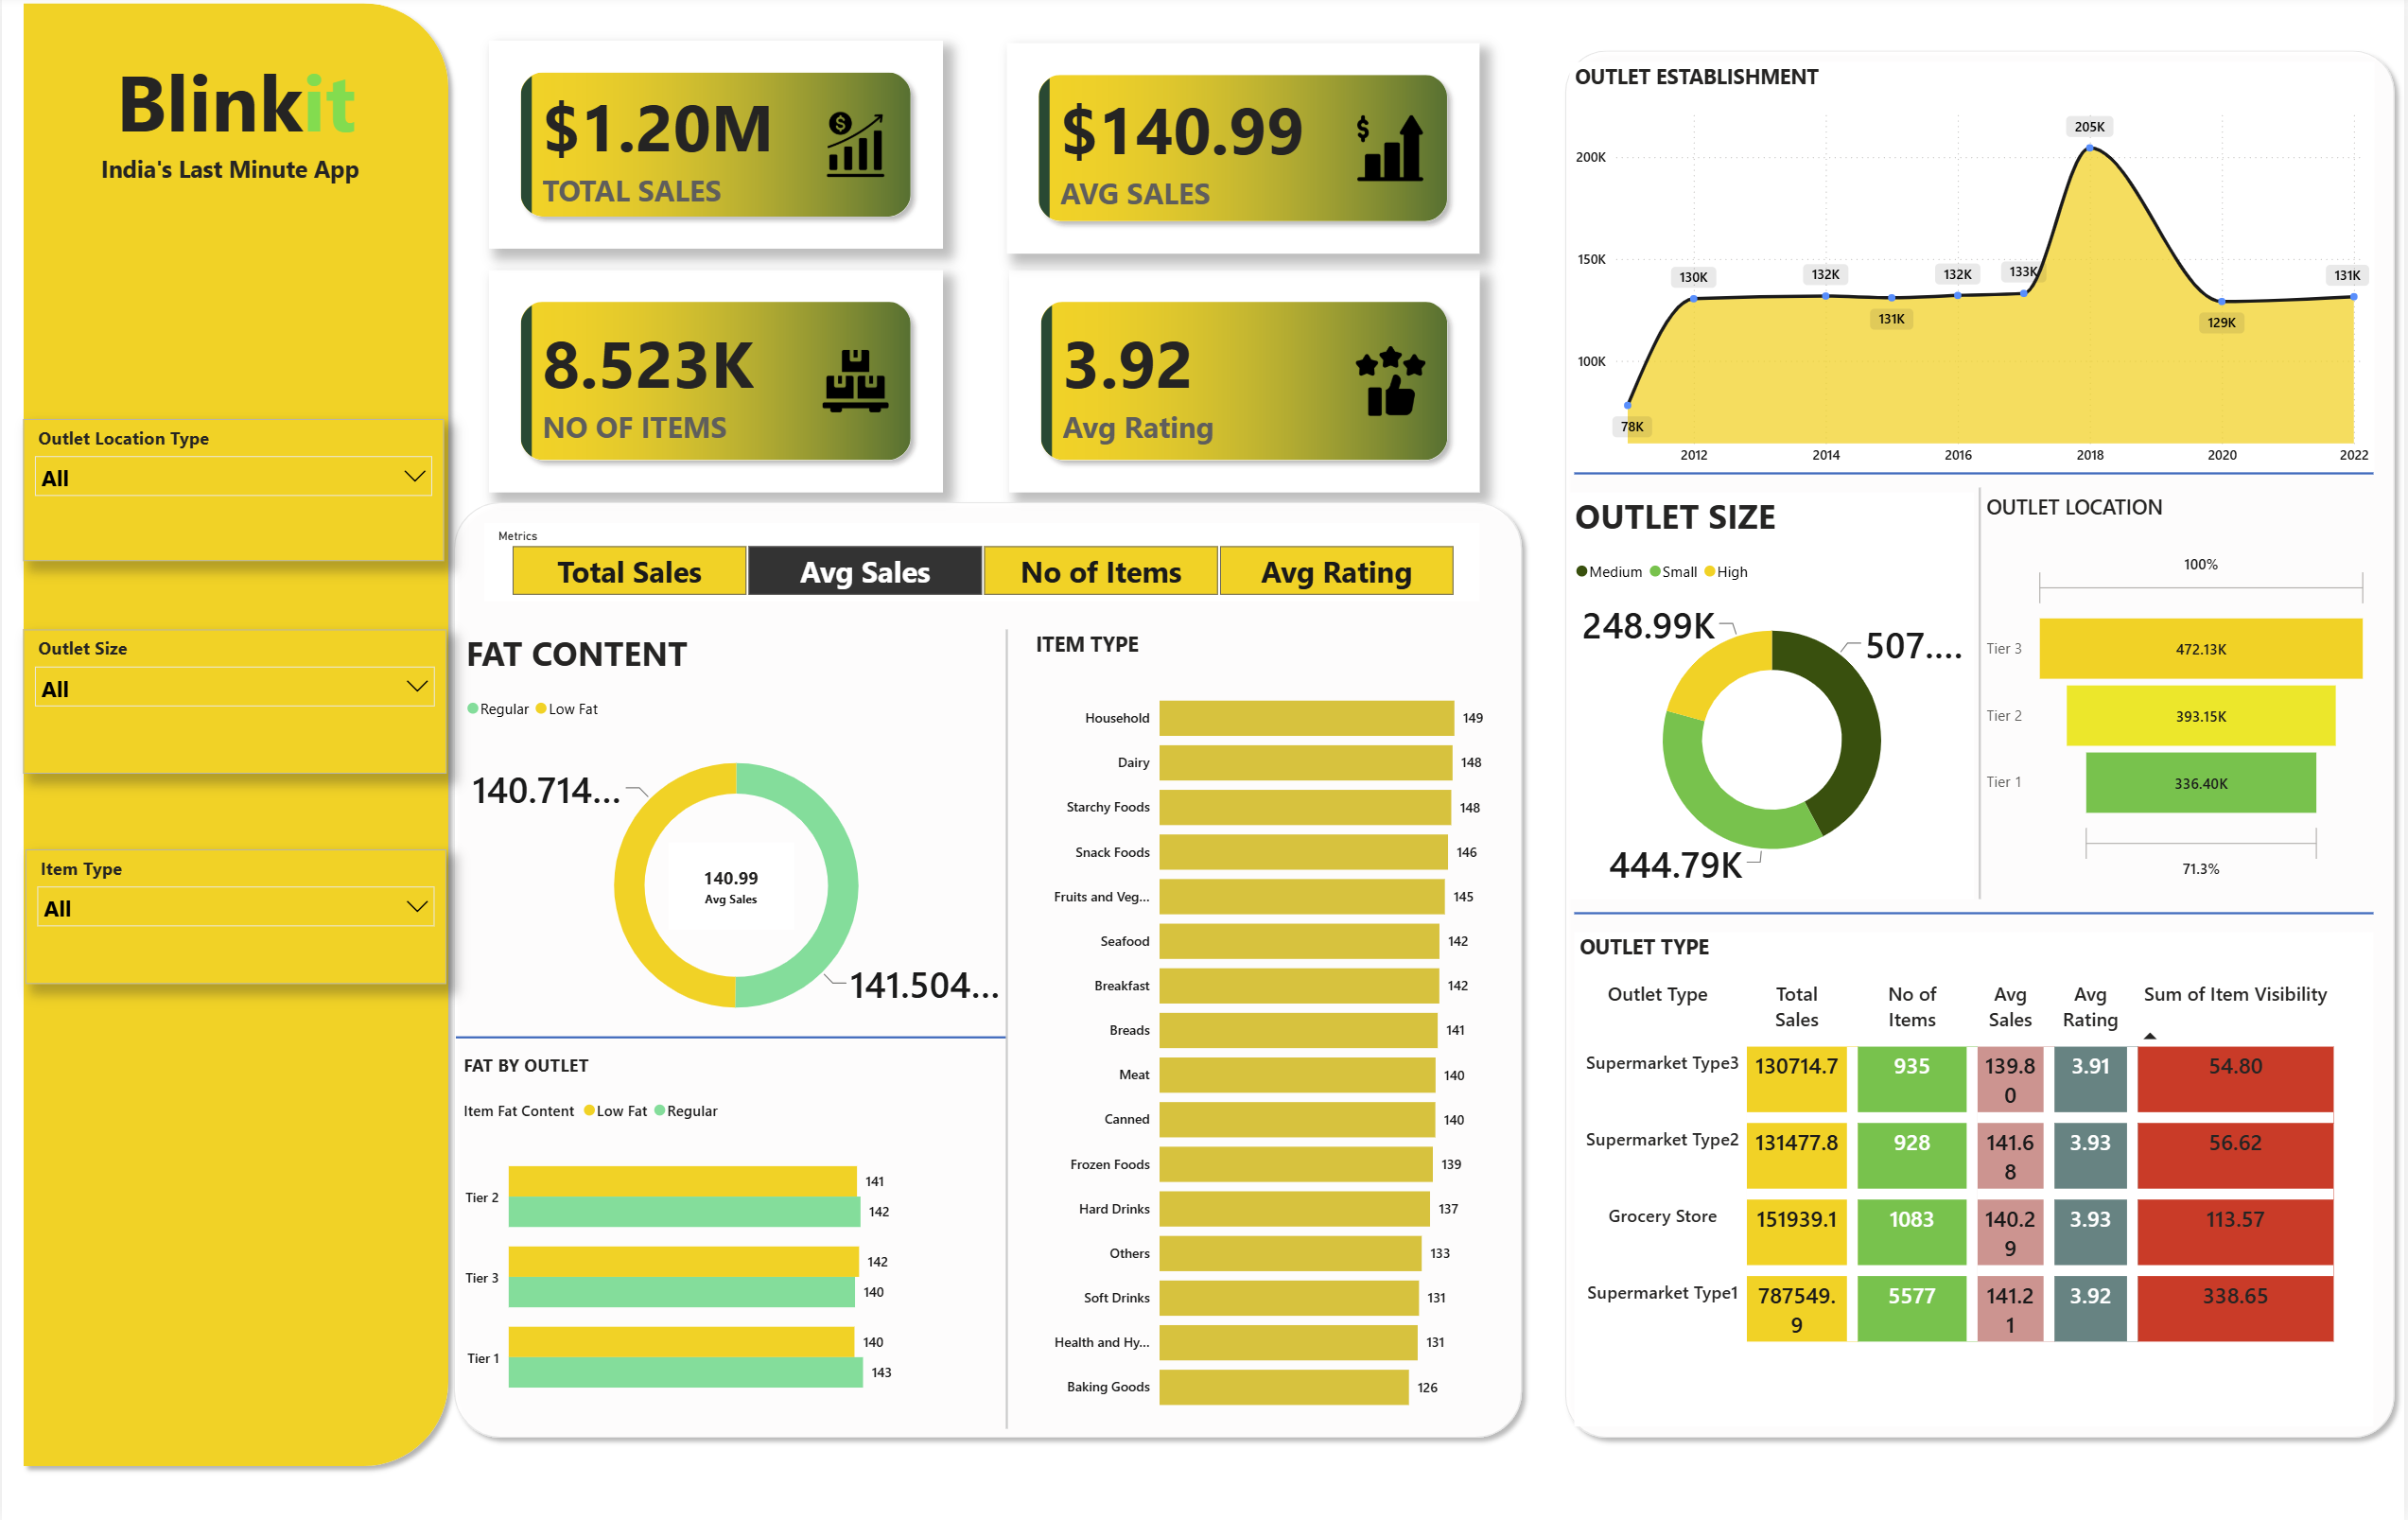

Layout of this report page (visuals, bound fields, positions):
{"tool":"powerbi","page":{"name":"Page 1","canvas":[2200,1400],"ordinal":0},"visuals":[{"type":"shape","box":[10.8,0,406.9,1357.1],"z":0},{"type":"textbox","box":[10.8,43.3,406.9,142.9],"z":1000},{"type":"textbox","box":[2.2,140.7,413.4,71.4],"z":2000},{"type":"cardVisual","fields":{"Data":["BlinkIT Grocery Data.No of Items"]},"box":[445.9,253.2,415.6,203.5],"z":3000},{"type":"cardVisual","fields":{"Data":["BlinkIT Grocery Data.Total Sales"]},"box":[445.9,43.3,415.6,190.5],"z":4000},{"type":"cardVisual","fields":{"Data":["BlinkIT Grocery Data.Avg Rating"]},"box":[922.1,253.2,430.7,203.5],"z":5000},{"type":"cardVisual","fields":{"Data":["BlinkIT Grocery Data.Avg Sales"]},"box":[919.9,45.5,432.9,192.6],"z":6000},{"type":"shape","box":[404.8,456.7,995.7,874.5],"z":7000},{"type":"donutChart","title":"FAT CONTENT","fields":{"Y":["BlinkIT Grocery Data.Avg Sales"],"Category":["BlinkIT Grocery Data.Item Fat Content"]},"box":[419.9,582.3,504.3,387.4],"z":8000},{"type":"slicer","fields":{"Values":["Metrics 2.Metrics"]},"box":[441.6,484.9,911.3,71.4],"z":9000},{"type":"cardVisual","fields":{"Data":["BlinkIT Grocery Data.Avg Sales"]},"box":[610.4,777.1,114.7,80.1],"z":10000},{"type":"clusteredBarChart","title":"FAT BY OUTLET","fields":{"Y":["BlinkIT Grocery Data.Avg Sales"],"Category":["BlinkIT Grocery Data.Outlet Location Type"],"Series":["BlinkIT Grocery Data.Item Fat Content"]},"box":[417.8,969.7,504.3,344.2],"z":11000},{"type":"shape","box":[415.6,893.9,504.3,123.4],"z":12000},{"type":"shape","box":[898.3,582.3,43.3,731.6],"z":13000},{"type":"barChart","title":"ITEM TYPE","fields":{"Y":["BlinkIT Grocery Data.Avg Sales"],"Category":["BlinkIT Grocery Data.Item Type"]},"box":[941.6,582.3,419.9,731.6],"z":14000},{"type":"shape","box":[1422.1,43.3,777.1,1287.9],"z":15000},{"type":"lineChart","title":"OUTLET ESTABLISHMENT","fields":{"Y":["BlinkIT Grocery Data.Total Sales"],"Category":["BlinkIT Grocery Data.Outlet Establishment Year"]},"box":[1434.5,61.9,736.8,378.2],"z":16000},{"type":"shape","box":[1439.4,333.3,731.6,212.1],"z":17000},{"type":"donutChart","title":"OUTLET SIZE","fields":{"Category":["BlinkIT Grocery Data.Outlet Size"],"Y":["BlinkIT Grocery Data.Total Sales"]},"box":[1435.1,456.7,370.1,372.3],"z":18000},{"type":"shape","box":[1774.9,452.4,71.4,376.6],"z":19000},{"type":"funnel","title":"OUTLET LOCATION","fields":{"Y":["Sum(BlinkIT Grocery Data.Sales)"],"Category":["BlinkIT Grocery Data.Outlet Location Type"]},"box":[1811.7,456.7,359.3,372.3],"z":20000},{"type":"shape","box":[1439.4,803,731.6,77.9],"z":21000},{"type":"pivotTable","title":"OUTLET TYPE","fields":{"Rows":["BlinkIT Grocery Data.Outlet Type"],"Values":["BlinkIT Grocery Data.Total Sales","BlinkIT Grocery Data.No of Items","BlinkIT Grocery Data.Avg Sales","BlinkIT Grocery Data.Avg Rating","Sum(BlinkIT Grocery Data.Item Visibility)"]},"box":[1439.4,859.3,731.6,452.4],"z":22000},{"type":"slicer","fields":{"Values":["BlinkIT Grocery Data.Outlet Location Type"]},"box":[19.5,389.6,385.3,129.9],"z":23000},{"type":"slicer","fields":{"Values":["BlinkIT Grocery Data.Outlet Size"]},"box":[19.5,582.3,387.4,132],"z":24000},{"type":"slicer","fields":{"Values":["BlinkIT Grocery Data.Item Type"]},"box":[21.6,783.6,385.3,123.4],"z":25000}]}

Visuals, with their boxes in screenshot pixels (x1, y1, x2, y2), scaled from the page's 2200x1400 canvas onto the 2408x1520 screenshot:
shape: crop(11, 0, 457, 1474)
textbox: crop(11, 47, 457, 202)
textbox: crop(3, 153, 455, 230)
cardVisual - BlinkIT Grocery Data.No of Items: crop(488, 275, 943, 496)
cardVisual - BlinkIT Grocery Data.Total Sales: crop(488, 47, 943, 253)
cardVisual - BlinkIT Grocery Data.Avg Rating: crop(1009, 275, 1481, 496)
cardVisual - BlinkIT Grocery Data.Avg Sales: crop(1007, 49, 1481, 258)
shape: crop(443, 496, 1533, 1445)
"FAT CONTENT" donutChart: crop(460, 632, 1012, 1053)
slicer - Metrics 2.Metrics: crop(483, 527, 1481, 604)
cardVisual - BlinkIT Grocery Data.Avg Sales: crop(668, 844, 794, 931)
"FAT BY OUTLET" clusteredBarChart: crop(458, 1053, 1009, 1426)
shape: crop(455, 970, 1007, 1105)
shape: crop(984, 632, 1031, 1426)
"ITEM TYPE" barChart: crop(1031, 632, 1491, 1426)
shape: crop(1557, 47, 2407, 1445)
"OUTLET ESTABLISHMENT" lineChart: crop(1570, 67, 2377, 478)
shape: crop(1576, 362, 2376, 592)
"OUTLET SIZE" donutChart: crop(1571, 496, 1976, 900)
shape: crop(1943, 491, 2021, 900)
"OUTLET LOCATION" funnel: crop(1983, 496, 2376, 900)
shape: crop(1576, 872, 2376, 956)
"OUTLET TYPE" pivotTable: crop(1576, 933, 2376, 1424)
slicer - BlinkIT Grocery Data.Outlet Location Type: crop(22, 423, 443, 564)
slicer - BlinkIT Grocery Data.Outlet Size: crop(22, 632, 445, 776)
slicer - BlinkIT Grocery Data.Item Type: crop(24, 850, 445, 985)
